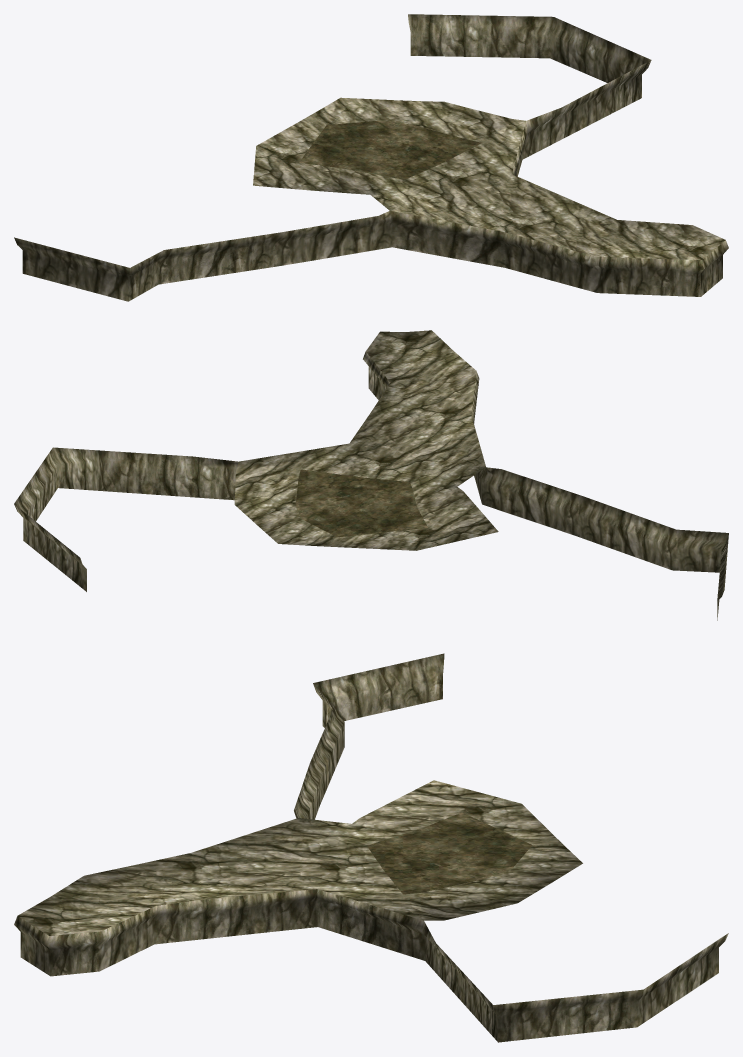
File: CB_NEWPLAYSURFACE_CB_PLAYSURFACE18.fbx
The picture shows the model from 3 angles, top to bottom: view 1: azimuth 30°, elevation 25°; view 2: azimuth 150°, elevation 25°; view 3: azimuth 270°, elevation 25°; orthographic projection. The views are drawn at different scales.
Visible parts, largest first — view 1: CB_NEWPLAYSURFACE_CB_PLAYSURFACE18; view 2: CB_NEWPLAYSURFACE_CB_PLAYSURFACE18; view 3: CB_NEWPLAYSURFACE_CB_PLAYSURFACE18.
Part boxes in pixels (bbox=[...]): CB_NEWPLAYSURFACE_CB_PLAYSURFACE18: bbox=[14, 14, 728, 301]; CB_NEWPLAYSURFACE_CB_PLAYSURFACE18: bbox=[14, 330, 728, 620]; CB_NEWPLAYSURFACE_CB_PLAYSURFACE18: bbox=[14, 653, 728, 1042].
Bounding box in the file's own units: 480040 × 26801 × 412407.
3 materials, 3 textured.
